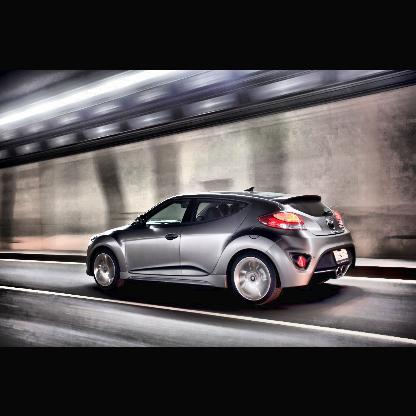Hyundai Veloster Hatchback 2012: (86, 188, 356, 309)
